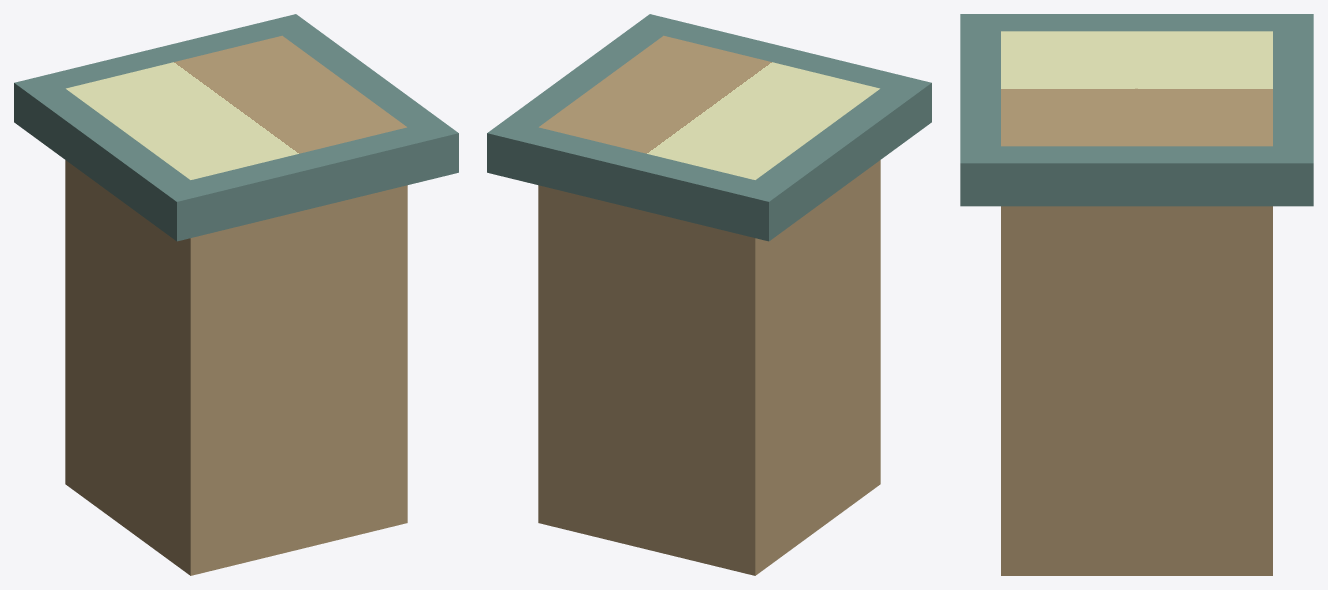
File: PilarTorre01.fbx
The picture shows the model from 3 angles, left to right: view 1: azimuth 30°, elevation 25°; view 2: azimuth 150°, elevation 25°; view 3: azimuth 270°, elevation 25°; orthographic projection. The views are drawn at different scales.
Visible parts, largest first — view 1: Cube.113; view 2: Cube.113; view 3: Cube.113.
Part boxes in pixels (<box>): Cube.113: <box>14,14,458,575</box>; Cube.113: <box>487,14,931,575</box>; Cube.113: <box>960,14,1313,575</box>.
Bounding box in the file's own units: 260 × 349 × 260.
